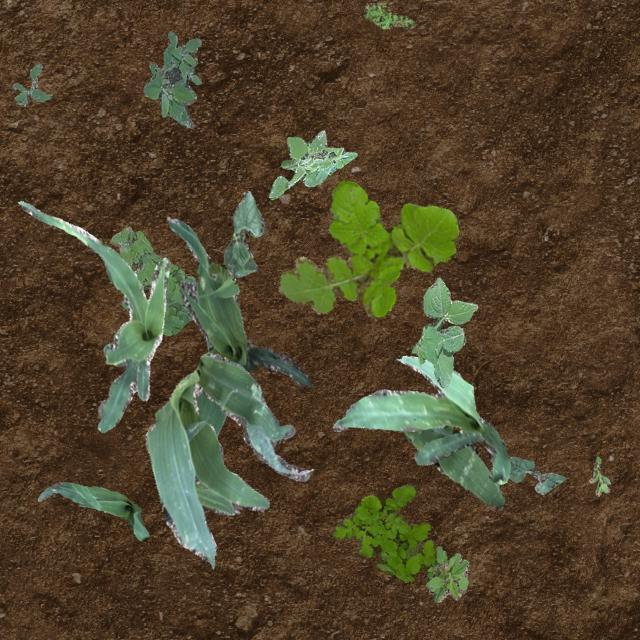crop: (144, 350, 312, 568), (17, 200, 169, 432), (166, 217, 312, 436), (332, 354, 509, 484), (403, 423, 503, 508), (36, 480, 148, 540), (222, 190, 264, 276), (508, 456, 564, 492)
weed: (278, 178, 458, 316), (330, 482, 436, 580), (110, 226, 194, 334), (411, 276, 476, 386), (268, 130, 356, 198), (142, 30, 200, 126), (424, 546, 468, 600), (12, 61, 50, 106), (362, 1, 414, 28), (588, 456, 610, 494)
